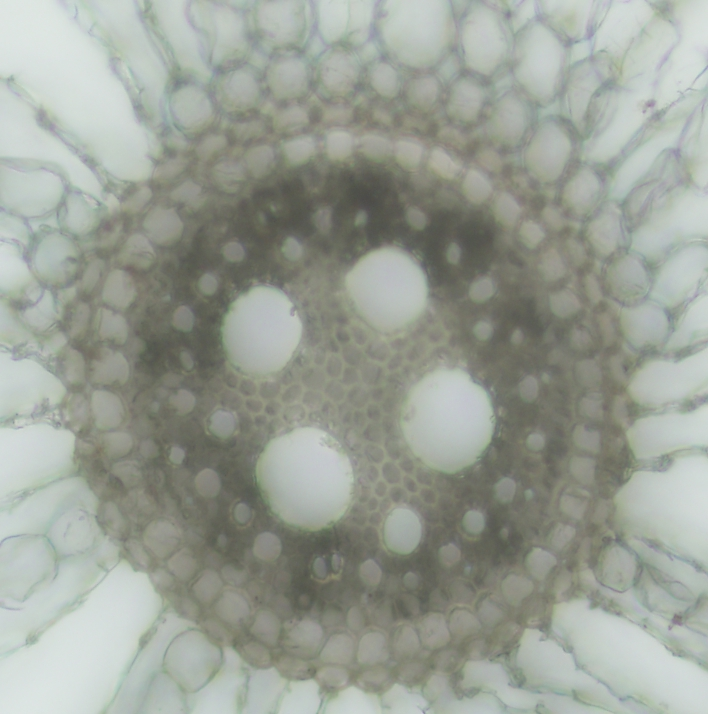lm: (253, 424, 355, 529), (400, 366, 496, 475), (221, 283, 304, 381), (344, 245, 429, 334)
